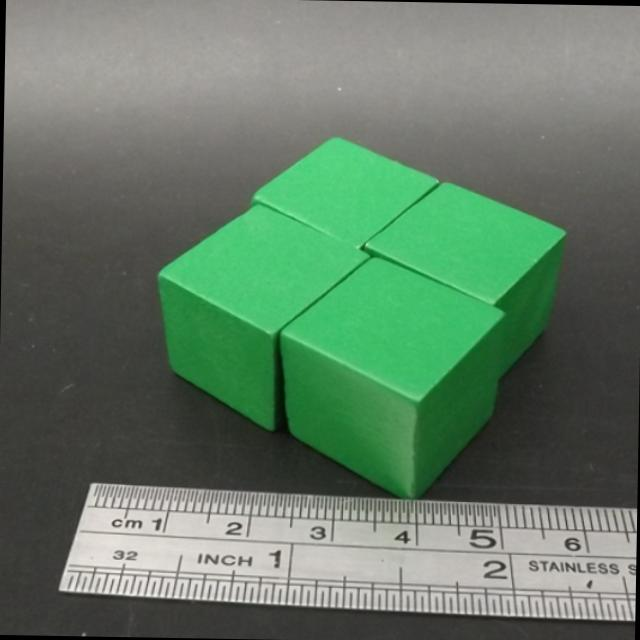green cube: (277, 257, 504, 500), (156, 203, 373, 432), (363, 180, 566, 378), (248, 134, 441, 249)
